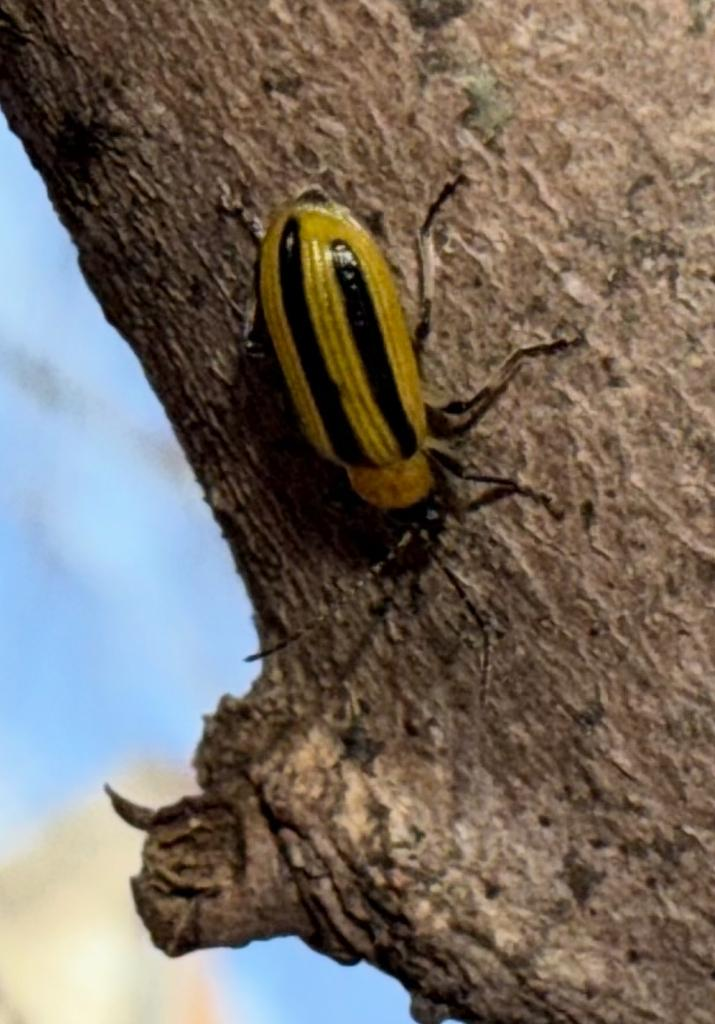potato_beetle: (160, 144, 623, 627)
